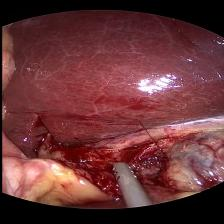Irrigator: (103, 158, 142, 192)
